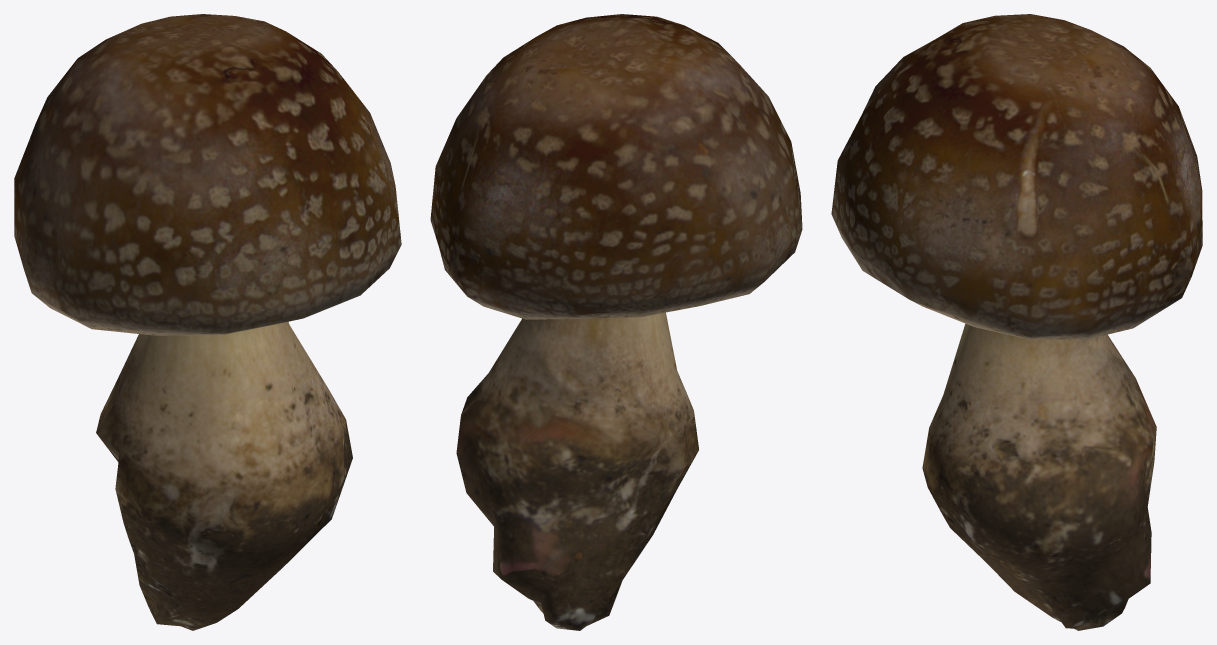
File: Mushroom.fbx
3 renders of one model, left to right at view 1: azimuth 30°, elevation 25°; view 2: azimuth 150°, elevation 25°; view 3: azimuth 270°, elevation 25°, orthographic. The views are drawn at different scales.
Visible parts, largest first — view 1: Mushroom; view 2: Mushroom; view 3: Mushroom.
Part boxes in pixels (x1,y1,x2,y2): Mushroom: (14,14,401,630); Mushroom: (430,14,802,630); Mushroom: (831,14,1202,630).
Bounding box in the file's own units: 3.14 × 5.3 × 3.07.
